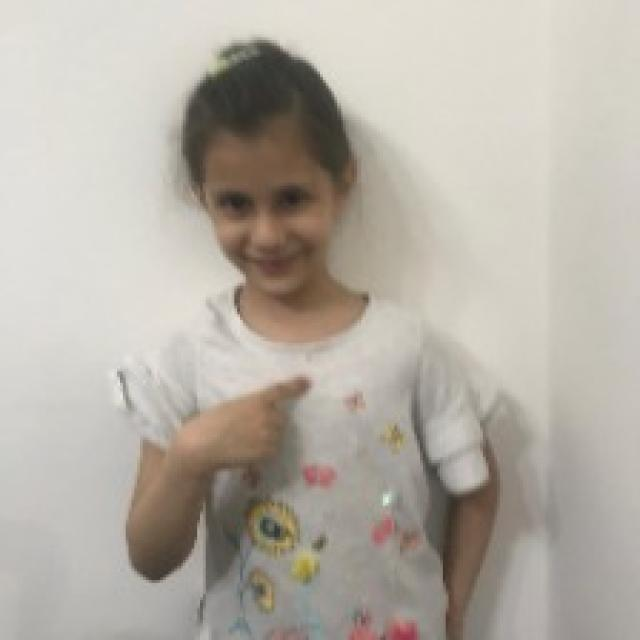me: (185, 372, 316, 471)
